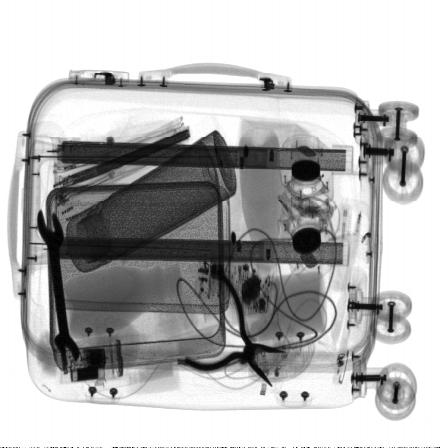Pliers: (184, 263, 286, 386)
Wrench: (37, 209, 82, 361)
